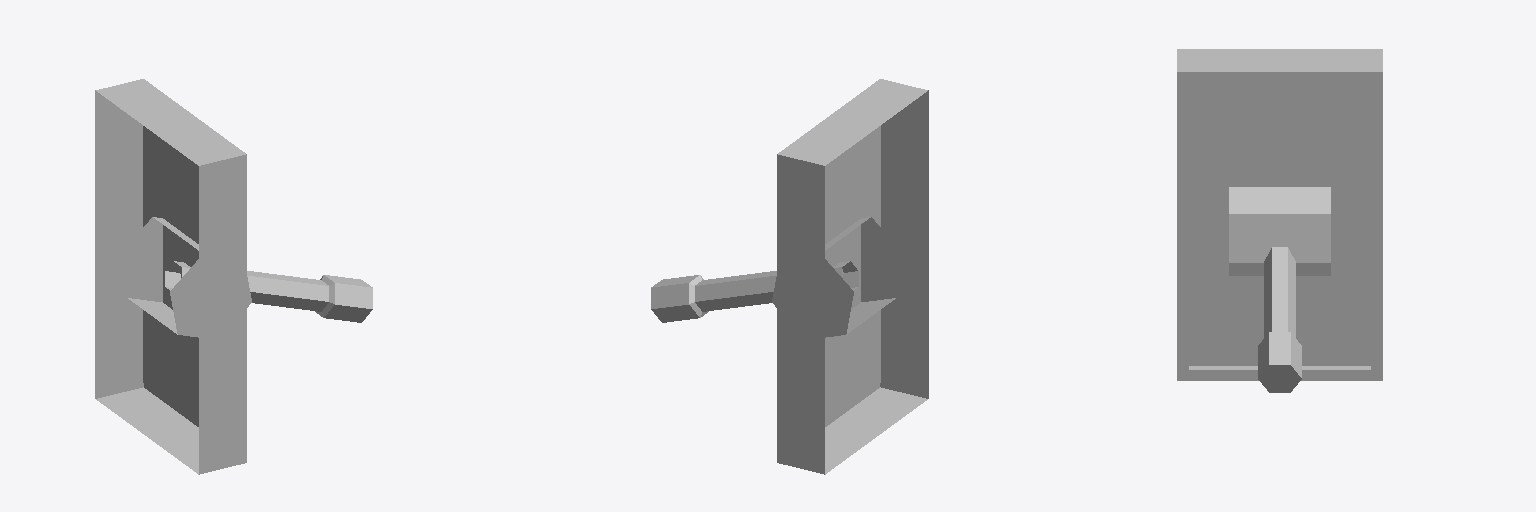
File: lever_anim19.obj
3 renders of one model, left to right at view 1: azimuth 30°, elevation 25°; view 2: azimuth 150°, elevation 25°; view 3: azimuth 270°, elevation 25°, orthographic.
Visible parts, largest first — view 1: Cube, Cylinder; view 2: Cube, Cylinder; view 3: Cube, Cylinder.
Boxes of the visible parts, x1=… form: Cube: x1=95, y1=79, x2=246, y2=474; Cylinder: x1=119, y1=217, x2=372, y2=337; Cube: x1=777, y1=79, x2=928, y2=474; Cylinder: x1=651, y1=217, x2=904, y2=337; Cube: x1=1177, y1=49, x2=1382, y2=380; Cylinder: x1=1229, y1=187, x2=1330, y2=392.
Size of the model in its own units: 1.51 by 2 by 1.21.